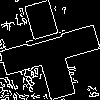I: (25, 25, 72, 51)
